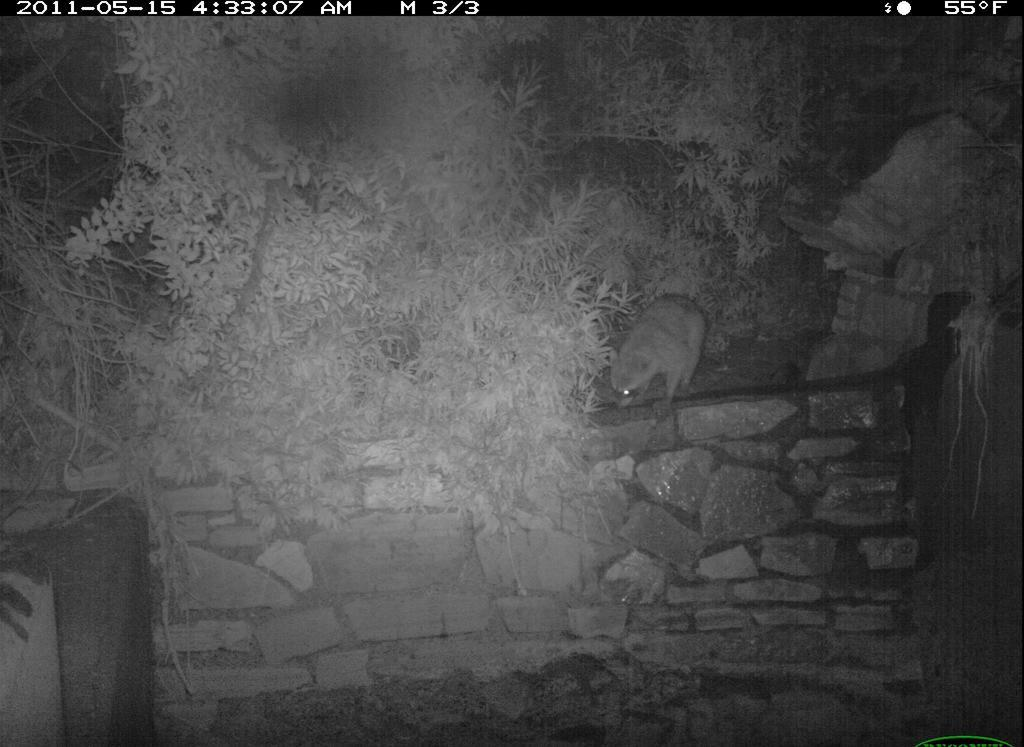raccoon: (606, 292, 714, 415)
